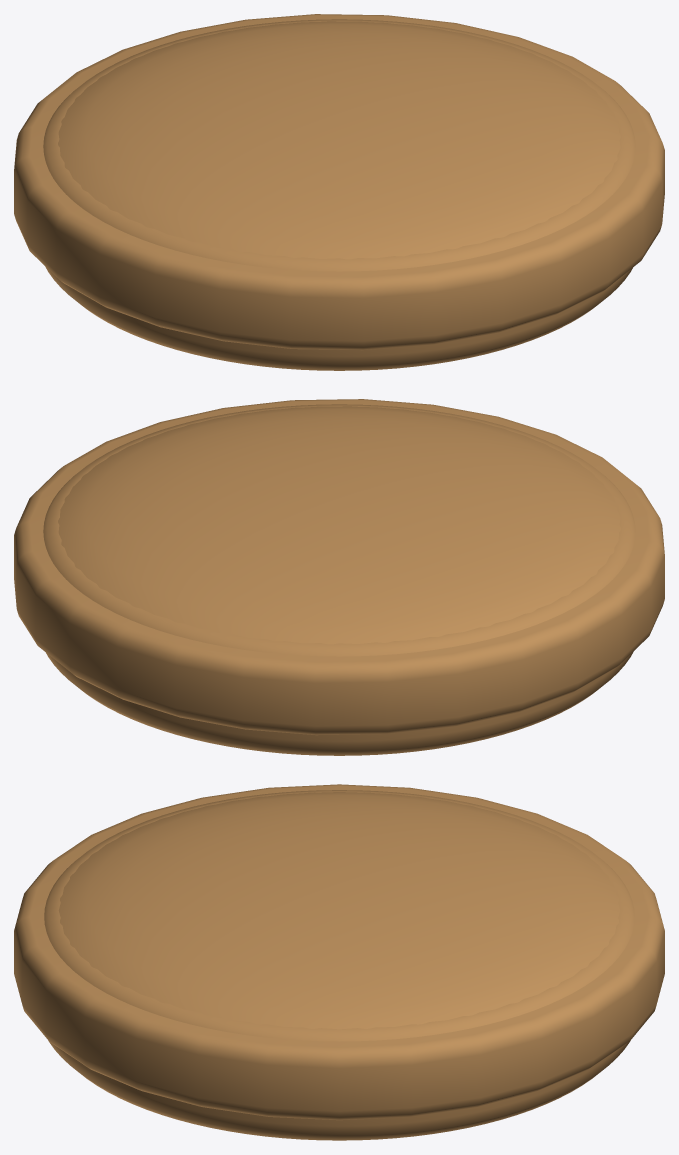
File: mooncake.glb
The picture shows the model from 3 angles, top to bottom: view 1: azimuth 30°, elevation 25°; view 2: azimuth 150°, elevation 25°; view 3: azimuth 270°, elevation 25°; orthographic projection.
Parts seen in each view (by area): view 1: Mooncake; view 2: Mooncake; view 3: Mooncake.
Part boxes in pixels (x1,y1,x2,y2): Mooncake: (14, 14, 664, 370); Mooncake: (14, 399, 664, 755); Mooncake: (14, 784, 664, 1140).
Bounding box in the file's own units: 0.091 × 0.0217 × 0.091.
